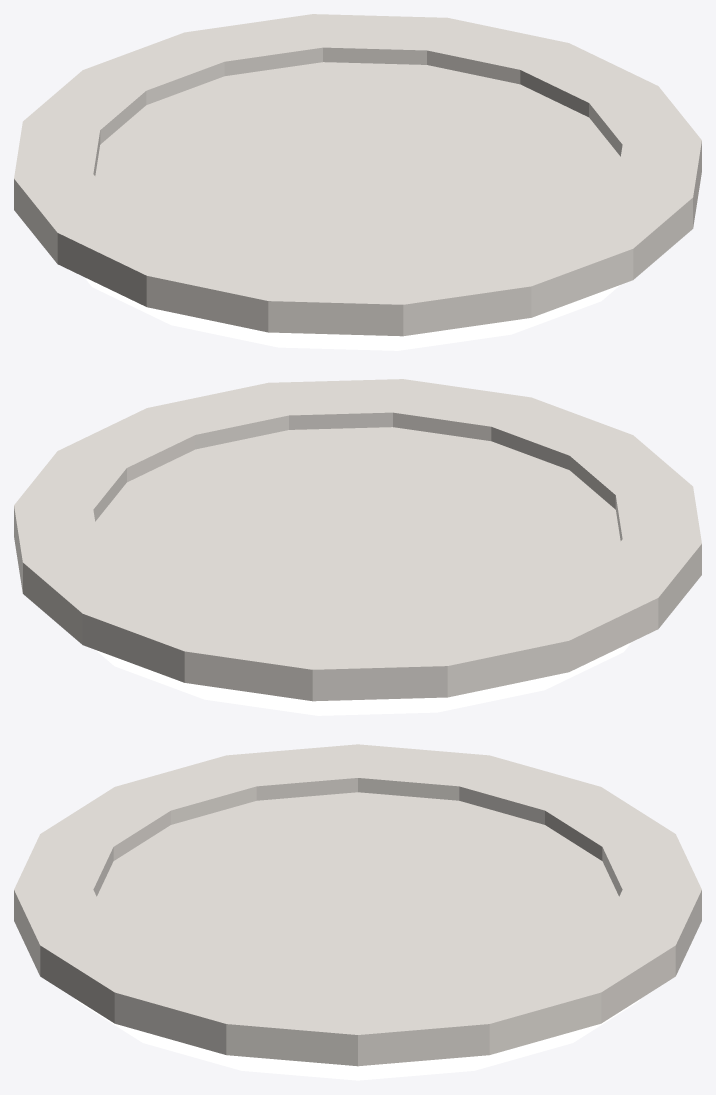
Rendered from ceiling_ring.glb.
The picture shows the model from 3 angles, top to bottom: view 1: azimuth 30°, elevation 25°; view 2: azimuth 150°, elevation 25°; view 3: azimuth 270°, elevation 25°; orthographic projection.
Visible parts, largest first — view 1: frutiger_aero_ceiling_ring; view 2: frutiger_aero_ceiling_ring; view 3: frutiger_aero_ceiling_ring.
Part boxes in pixels (x1,y1,x2,y2): frutiger_aero_ceiling_ring: (14, 14, 701, 350); frutiger_aero_ceiling_ring: (14, 379, 701, 715); frutiger_aero_ceiling_ring: (14, 744, 701, 1080).
Bounding box in the file's own units: 1.3 × 0.13 × 1.3.
2 materials, 2 textured.
